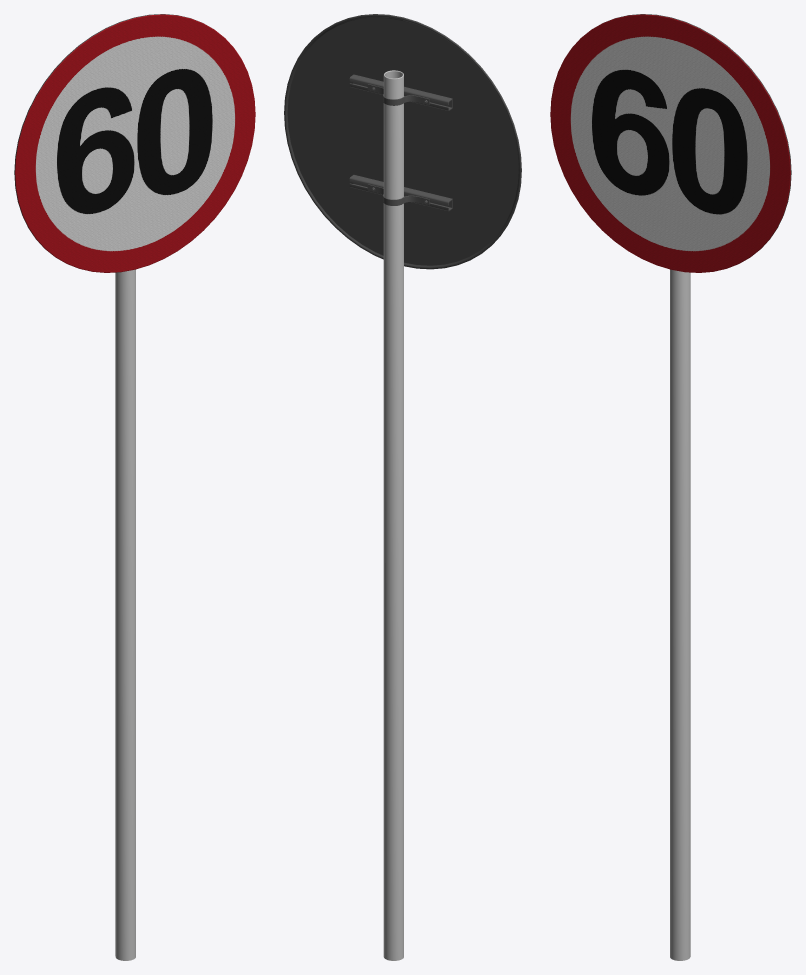
File: speed-limit-sign.fbx
The picture shows the model from 3 angles, left to right: view 1: azimuth 30°, elevation 25°; view 2: azimuth 150°, elevation 25°; view 3: azimuth 330°, elevation 25°; orthographic projection.
Visible parts, largest first — view 1: vm_ST_sign_01; view 2: vm_ST_sign_01; view 3: vm_ST_sign_01.
Part boxes in pixels (bbox=[...]): vm_ST_sign_01: bbox=[14, 14, 255, 960]; vm_ST_sign_01: bbox=[284, 14, 521, 960]; vm_ST_sign_01: bbox=[550, 14, 791, 960].
Bounding box in the file's own units: 76.77 × 288 × 8.45.
